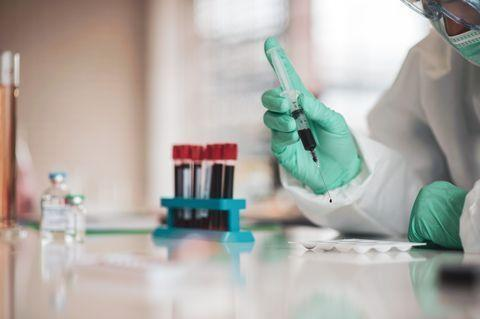Fire: (176, 160, 234, 198), (174, 210, 227, 231), (300, 130, 318, 162)
